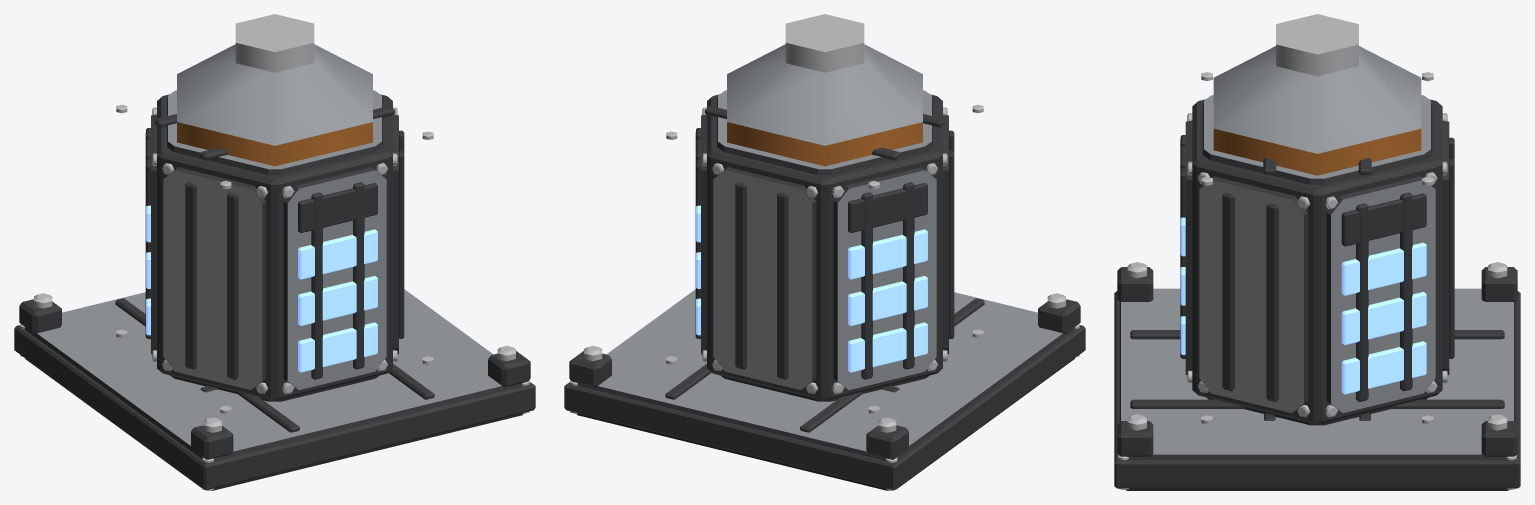
Rendered from R4X_ChargeCapacity.fbx.
The picture shows the model from 3 angles, left to right: view 1: azimuth 30°, elevation 25°; view 2: azimuth 150°, elevation 25°; view 3: azimuth 270°, elevation 25°; orthographic projection. The views are drawn at different scales.
Parts seen in each view (by area): view 1: R4X_ChargeCapacity_Body; view 2: R4X_ChargeCapacity_Body; view 3: R4X_ChargeCapacity_Body.
Part boxes in pixels (x1,y1,x2,y2): R4X_ChargeCapacity_Body: (14,14,535,490); R4X_ChargeCapacity_Body: (564,14,1085,490); R4X_ChargeCapacity_Body: (1114,14,1520,490).
Bounding box in the file's own units: 0.508 × 0.515 × 0.508.
